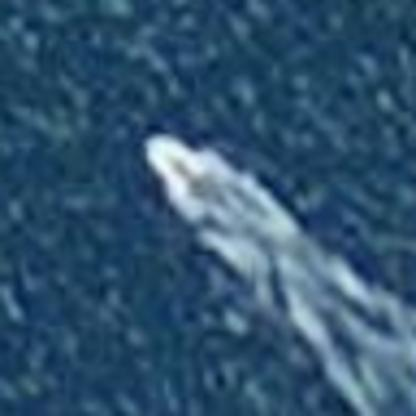ship: (138, 124, 224, 202)
